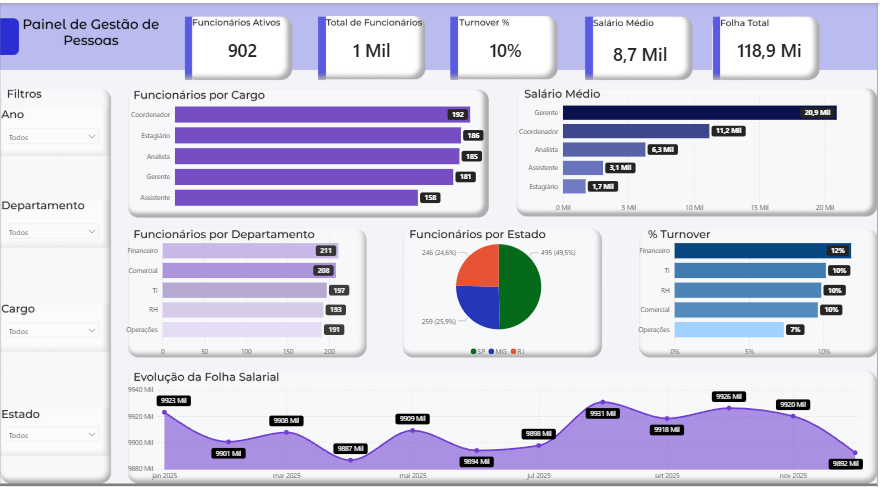

This screenshot's page, from the dashboard's own definition file:
{"tool":"powerbi","page":{"name":"Dashboard","canvas":[1580,870],"ordinal":1},"visuals":[{"type":"cardVisual","fields":{"Data":["Calculo.Total de Funcionarios"]},"box":[600.9,29.3,136.7,108.5],"z":0},{"type":"cardVisual","fields":{"Data":["Calculo.Funcionarios Ativos"]},"box":[369.8,29.3,135.6,108.5],"z":1000},{"type":"cardVisual","fields":{"Data":["Calculo.Folha Total"]},"box":[1295.1,29.3,182.2,108.5],"z":2000},{"type":"cardVisual","fields":{"Data":["Calculo.Salario Medio"]},"box":[1068.5,39.1,170.5,98.8],"z":3000},{"type":"cardVisual","fields":{"Data":["Calculo.Turnover %"]},"box":[842.7,29.3,136.8,108.6],"z":4000},{"type":"lineChart","title":"Evolução da Folha Salarial por Mês","fields":{"Y":["Calculo.Folha Total"],"Category":["Calendario.Data"]},"box":[225.9,683,1345.4,186.8],"z":5000},{"type":"barChart","title":"Funcionários por Departamento","fields":{"Y":["Calculo.Total de Funcionarios"],"Category":["Funcionarios.Departamento"]},"box":[218.3,406.1,437.6,241.1],"z":6000},{"type":"barChart","title":"Funcionários por Cargo","fields":{"Category":["Funcionarios.Cargo"],"Y":["Calculo.Funcionarios Ativos"]},"box":[225.6,158.4,655.2,227.8],"z":7000},{"type":"barChart","fields":{"Y":["Calculo.Turnover %"],"Category":["Funcionarios.Departamento"]},"box":[1140.2,406.1,439.8,241.1],"z":8000},{"type":"barChart","title":"Salário Médio por Cargo","fields":{"Y":["Calculo.Salario Medio"],"Category":["Funcionarios.Cargo"]},"box":[924.2,158.4,656.3,227.8],"z":9000},{"type":"pieChart","title":"Funcionarios por Estado","fields":{"Category":["Funcionarios.Estado"],"Y":["Calculo.Total de Funcionarios"]},"box":[716.7,406.1,362.7,241.1],"z":10000},{"type":"slicer","fields":{"Values":["Calendario.Ano"]},"box":[0,215.9,188.8,56.4],"z":11000},{"type":"slicer","fields":{"Values":["Funcionarios.Departamento"]},"box":[0,387.3,188.8,47.7],"z":12000},{"type":"slicer","fields":{"Values":["Funcionarios.Cargo"]},"box":[0,565.2,188.8,51],"z":13000},{"type":"slicer","title":"Estado","fields":{"Values":["Funcionarios.Estado"]},"box":[0,752.8,188.8,59.7],"z":14000}]}

Visuals, with their boxes in screenshot pixels (x1, y1, x2, y2), scaled from the page's 1580x870 canvas onto the 880x487 screenshot:
cardVisual - Calculo.Total de Funcionarios: box=[335, 16, 411, 77]
cardVisual - Calculo.Funcionarios Ativos: box=[206, 16, 281, 77]
cardVisual - Calculo.Folha Total: box=[721, 16, 823, 77]
cardVisual - Calculo.Salario Medio: box=[595, 22, 690, 77]
cardVisual - Calculo.Turnover %: box=[469, 16, 546, 77]
"Evolução da Folha Salarial por Mês" lineChart: box=[126, 382, 875, 486]
"Funcionários por Departamento" barChart: box=[122, 227, 365, 362]
"Funcionários por Cargo" barChart: box=[126, 89, 491, 216]
barChart - Calculo.Turnover % x Funcionarios.Departamento: box=[635, 227, 879, 362]
"Salário Médio por Cargo" barChart: box=[515, 89, 879, 216]
"Funcionarios por Estado" pieChart: box=[399, 227, 601, 362]
slicer - Calendario.Ano: box=[0, 121, 105, 152]
slicer - Funcionarios.Departamento: box=[0, 217, 105, 244]
slicer - Funcionarios.Cargo: box=[0, 316, 105, 345]
"Estado" slicer: box=[0, 421, 105, 455]
